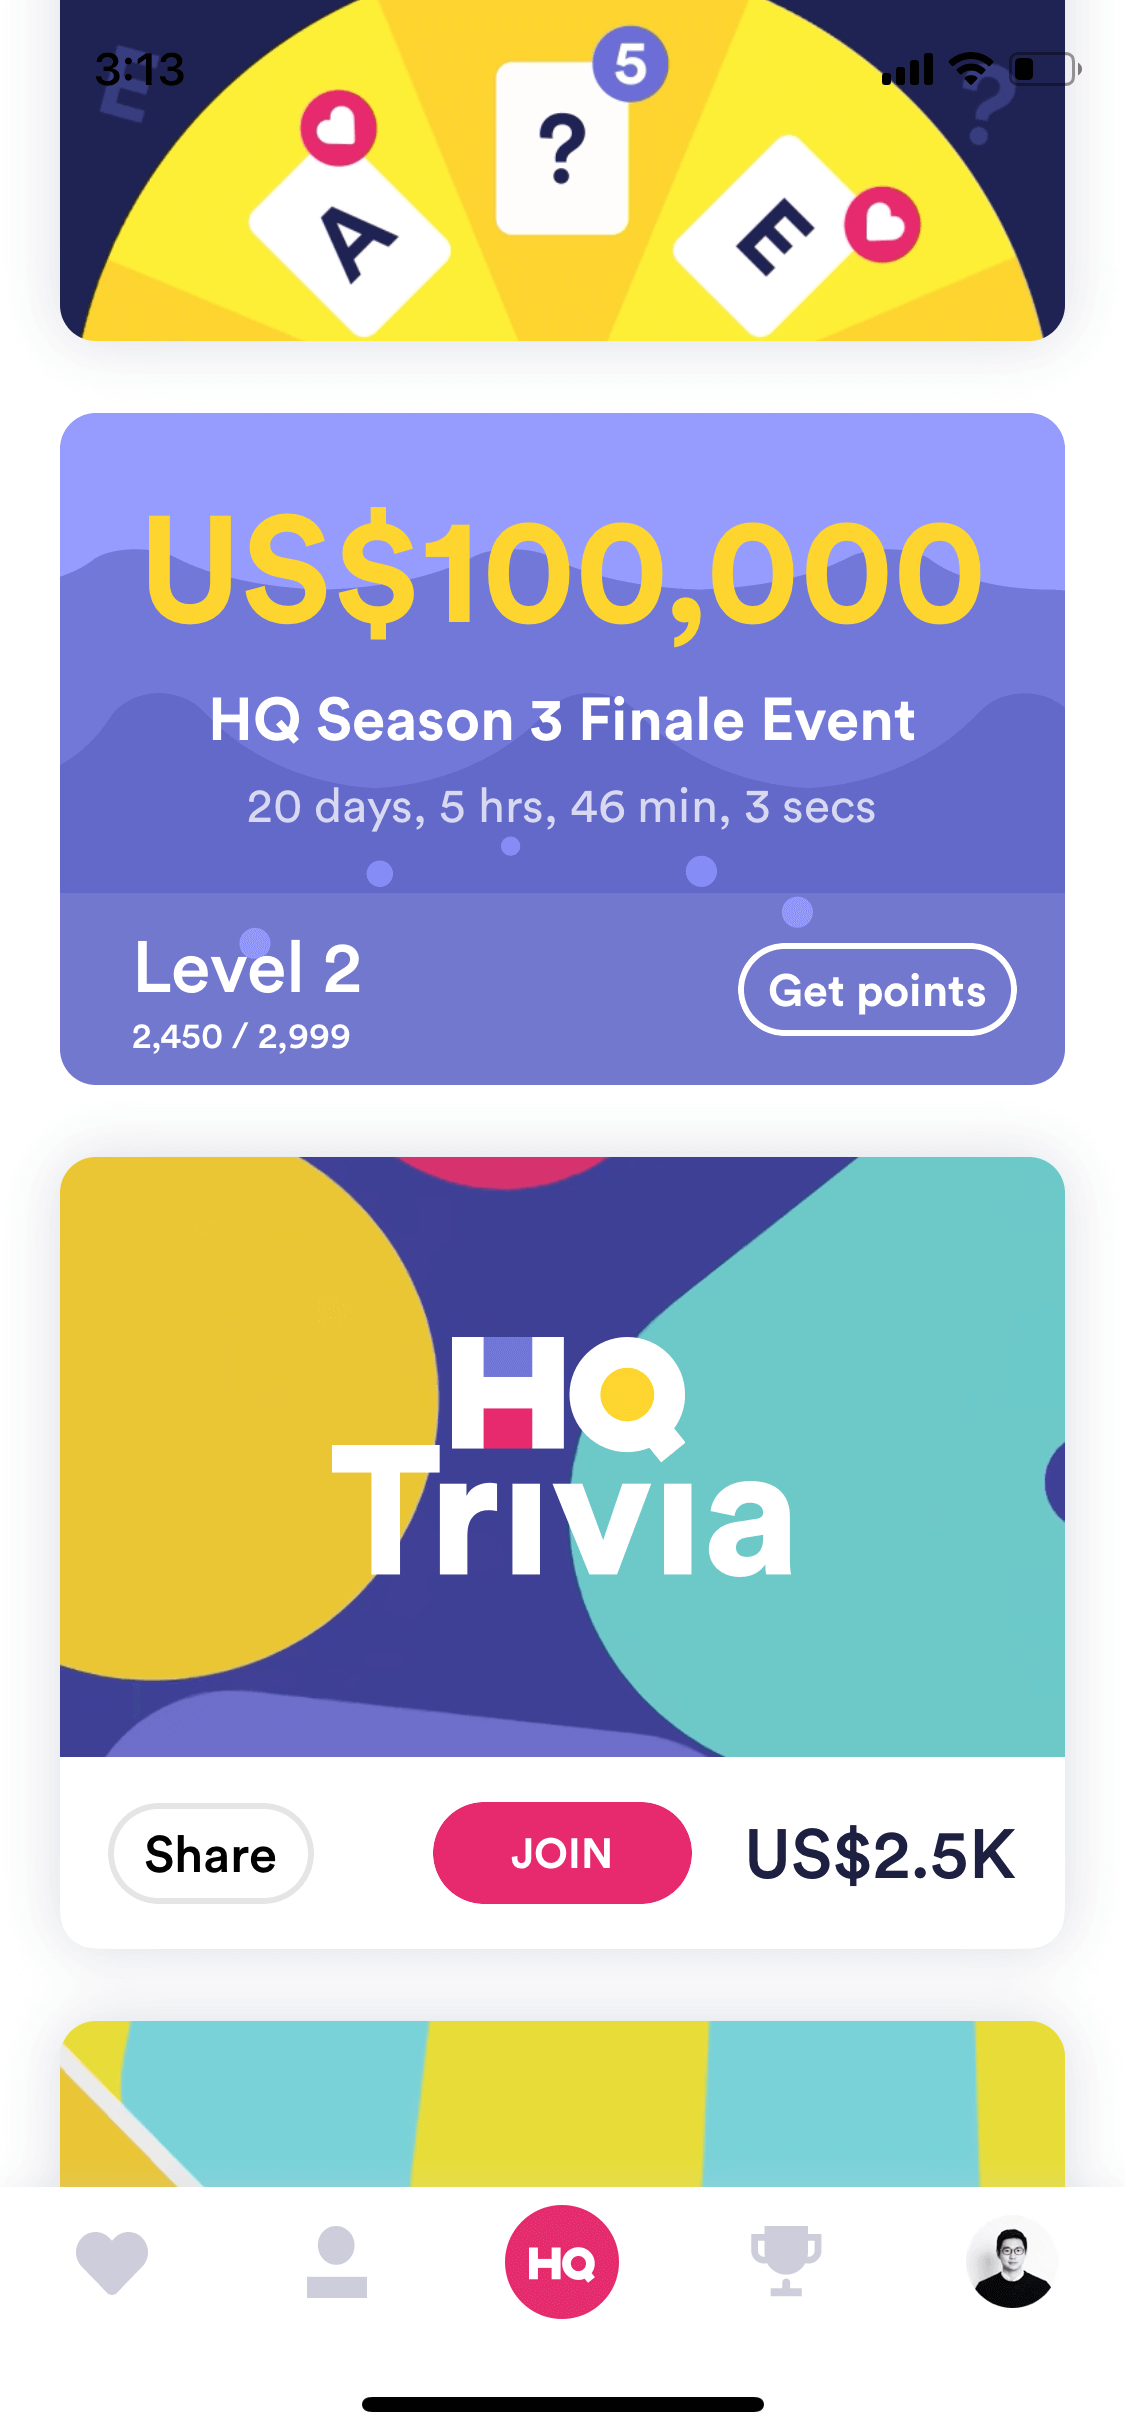Buttons: (727, 934, 1022, 1044), (423, 1804, 695, 1909), (103, 1794, 325, 1912)
